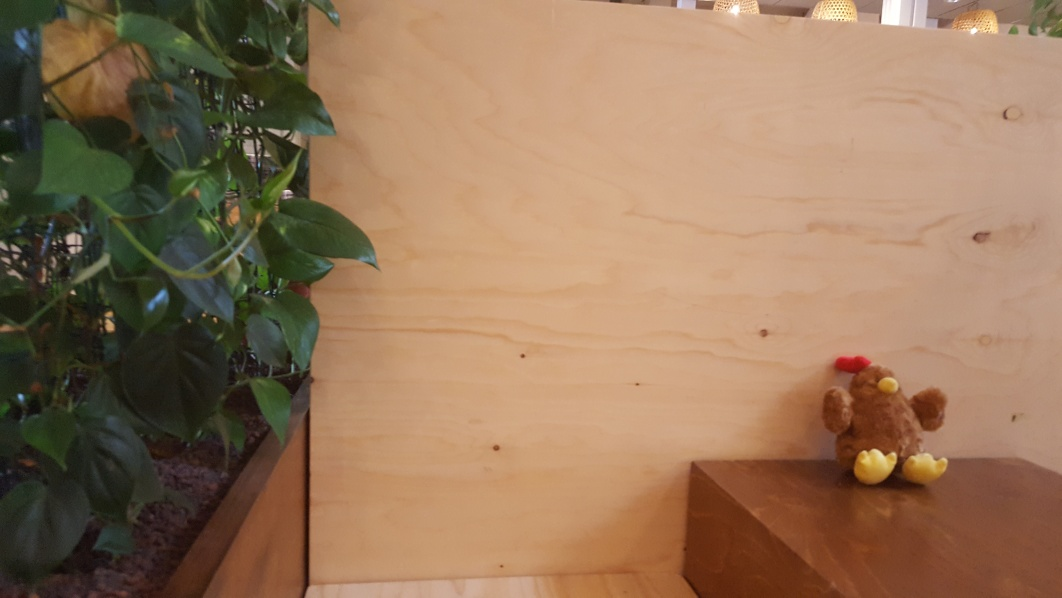chicken: (822, 347, 962, 490)
